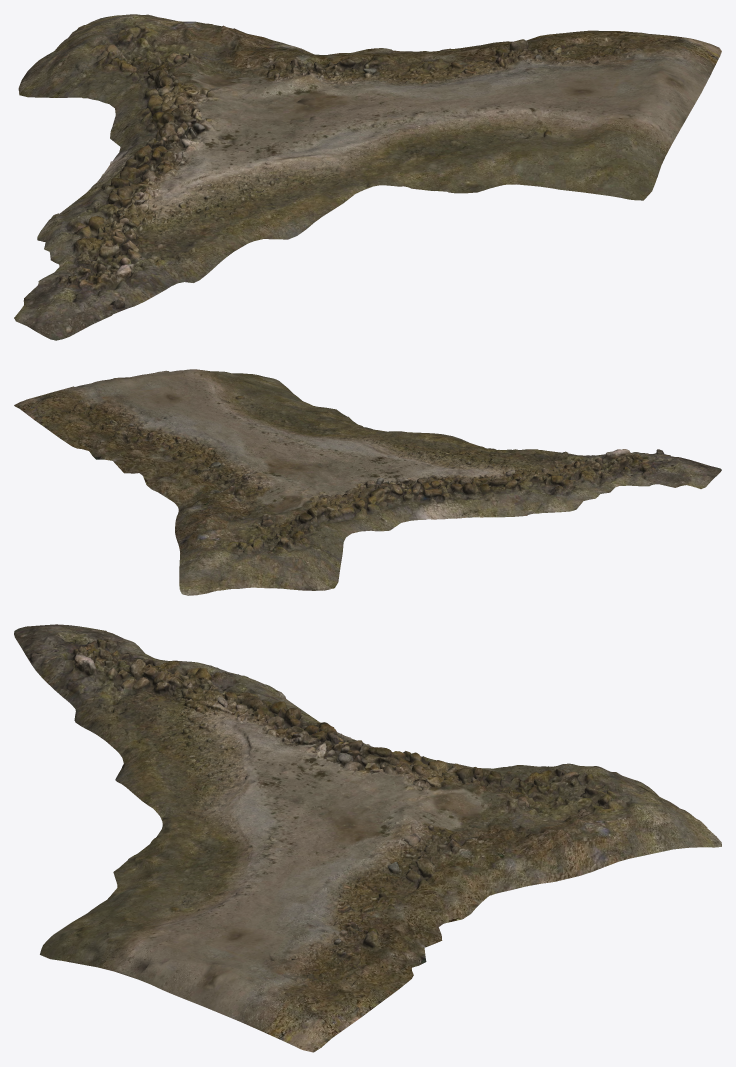
Rendered from coast_rocks_01.glb.
3 views of the same model, one above another, from view 1: azimuth 30°, elevation 25°; view 2: azimuth 150°, elevation 25°; view 3: azimuth 270°, elevation 25° (orthographic). The views are drawn at different scales.
Parts seen in each view (by area): view 1: coast_rocks_01; view 2: coast_rocks_01; view 3: coast_rocks_01.
Part boxes in pixels (x1,y1,x2,y2): coast_rocks_01: [14, 14, 721, 340]; coast_rocks_01: [14, 369, 721, 595]; coast_rocks_01: [14, 624, 721, 1052].
Size of the model in its own units: 59.51 by 3.29 by 42.51.
Materials: 1 (1 with a texture image).
